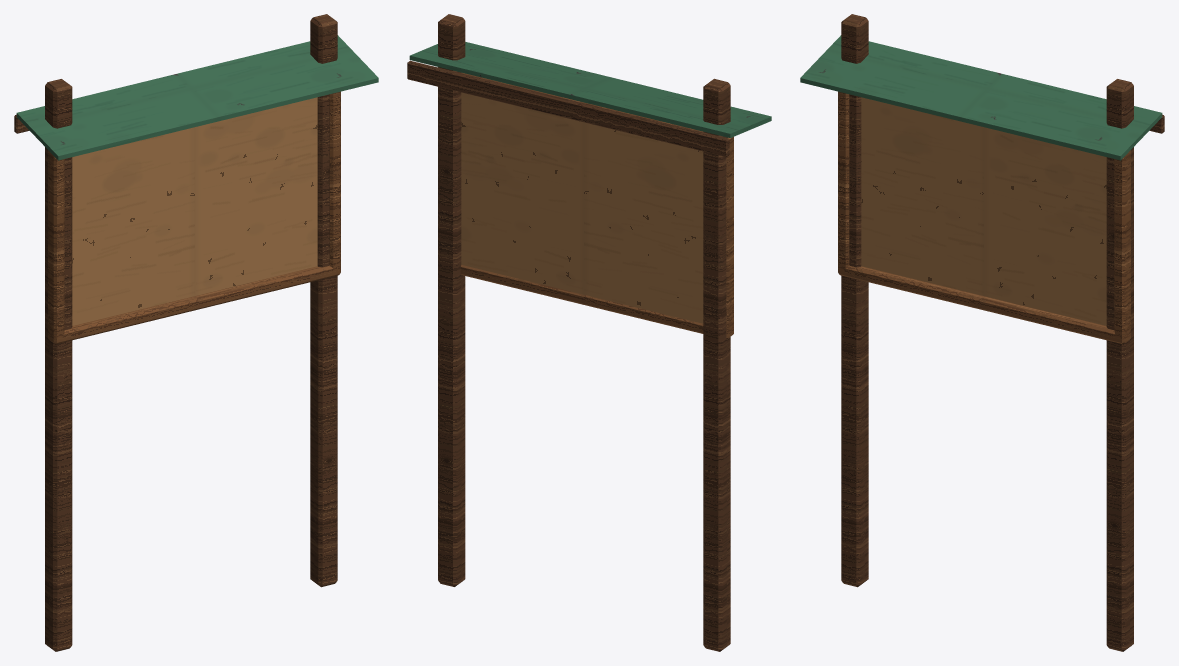
The model's file is notice_board.glb.
The picture shows the model from 3 angles, left to right: view 1: azimuth 30°, elevation 25°; view 2: azimuth 150°, elevation 25°; view 3: azimuth 330°, elevation 25°; orthographic projection.
Visible parts, largest first — view 1: p; view 2: p; view 3: p.
Part boxes in pixels (x1,y1,x2,y2): p: (14,14,378,651); p: (407,14,771,651); p: (800,14,1164,651).
Size of the model in its own units: 1.16 by 1.95 by 0.28.
Materials: 4 (4 with a texture image).
